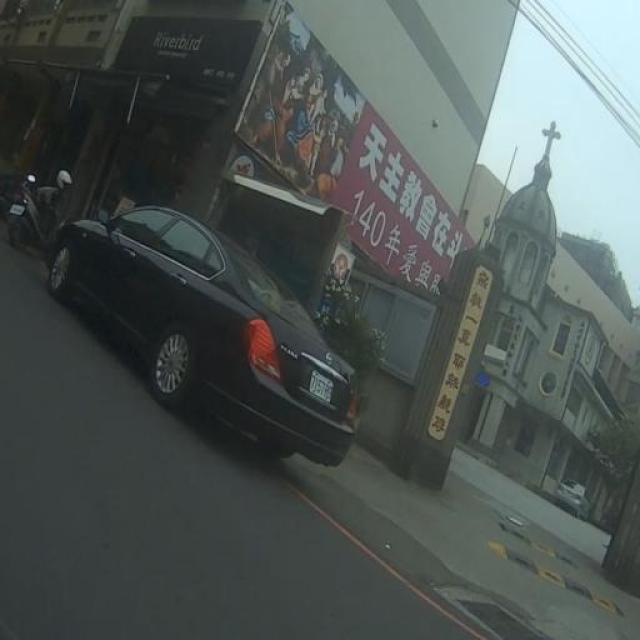Legalparking: (27, 167, 384, 499)
